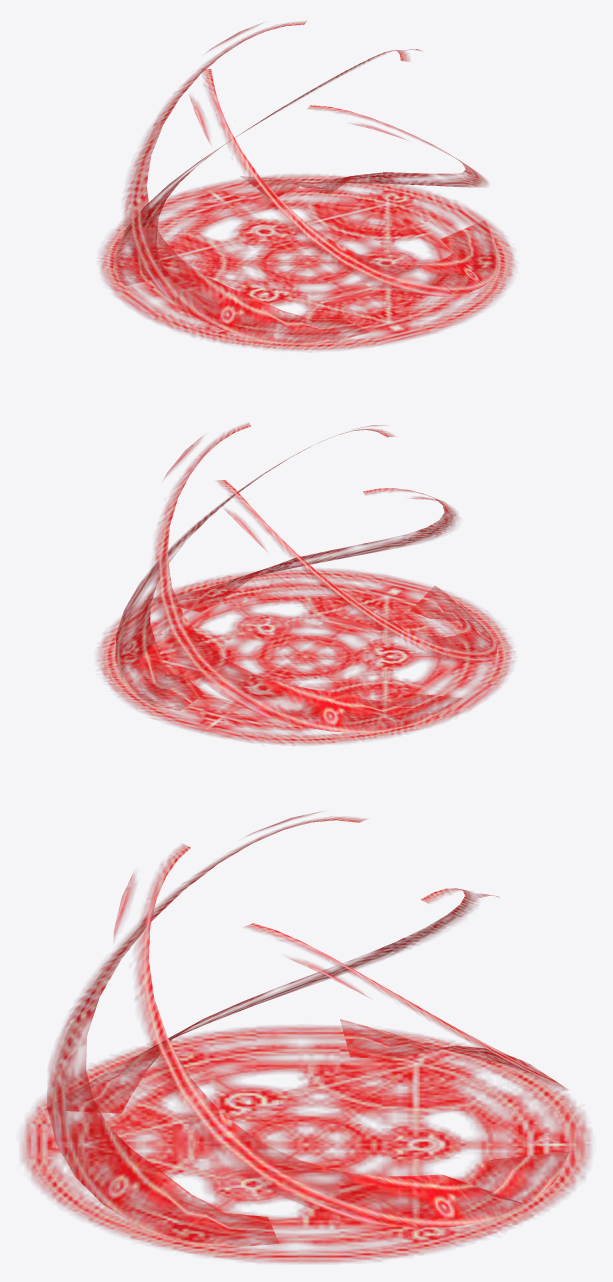
The model's file is magic_red.glb.
3 renders of one model, top to bottom at view 1: azimuth 30°, elevation 25°; view 2: azimuth 150°, elevation 25°; view 3: azimuth 270°, elevation 25°, orthographic. The views are drawn at different scales.
Parts seen in each view (by area): view 1: Circle; view 2: Circle; view 3: Circle.
Part boxes in pixels (x1,y1,x2,y2): Circle: (99,21,514,350); Circle: (97,423,513,745); Circle: (22,812,590,1263).
Size of the model in its own units: 10.45 by 5.36 by 10.45.
Materials: 1 (1 with a texture image).
